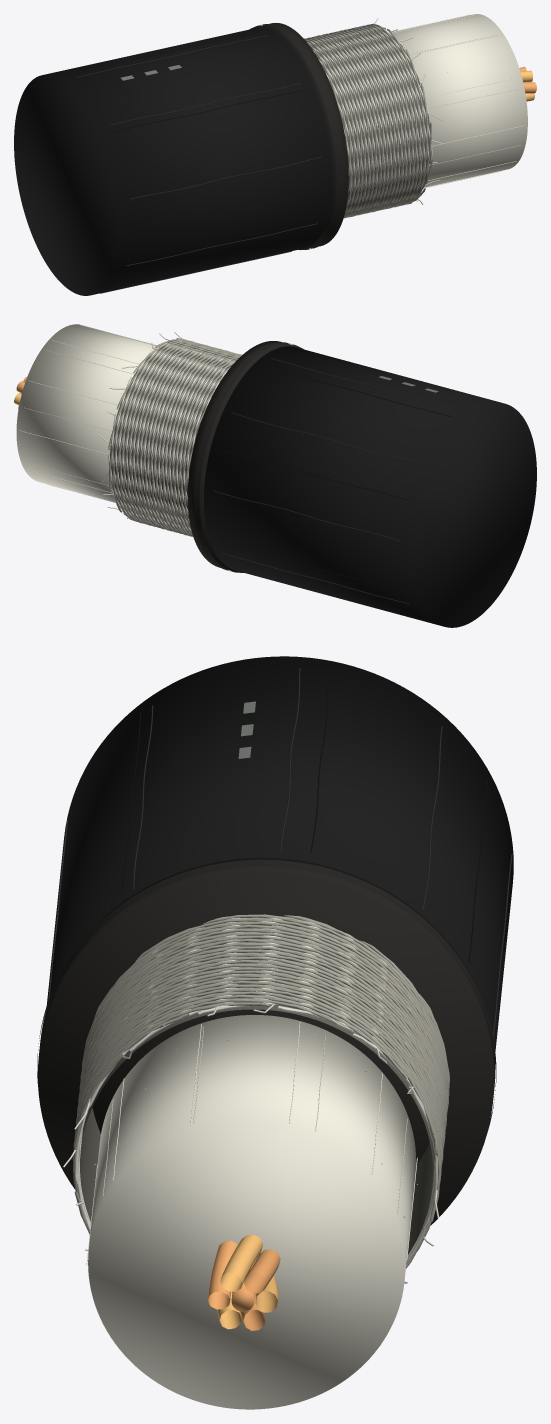
Rendered from rf-rg8-macro.glb.
The picture shows the model from 3 angles, top to bottom: view 1: azimuth 30°, elevation 25°; view 2: azimuth 150°, elevation 25°; view 3: azimuth 270°, elevation 25°; orthographic projection. The views are drawn at different scales.
Visible parts, largest first — view 1: macro jacket body, macro dielectric exposed core, shadow seen through braid windows, thick jacket cut wall, rounded jacket cut lip, macro braid shadow carrier 05 strand 1, macro braid shadow carrier 06 strand 1, macro braid shadow carrier 04 strand 1, macro braid shadow carrier 03 strand 1, macro braid shadow carrier 02 strand 1, macro braid shadow carrier 07 strand 1, macro braid shadow carrier 01 strand 1 (+12 smaller); view 2: macro jacket body, macro dielectric exposed core, shadow seen through braid windows, thick jacket cut wall, rounded jacket cut lip, macro braid shadow carrier 14 strand 1, macro braid shadow carrier 01 strand 1, macro braid shadow carrier 13 strand 1, macro braid shadow carrier 02 strand 1, macro braid shadow carrier 12 strand 1, macro braid shadow carrier 11 strand 1, macro braid shadow carrier 03 strand 1 (+9 smaller); view 3: macro dielectric exposed core, macro jacket body, thick jacket cut wall, shadow seen through braid windows, rounded jacket cut lip, macro braid shadow carrier 02 strand 3, macro braid shadow carrier 01 strand 3, macro braid shadow carrier 03 strand 3, macro braid shadow carrier 13 strand 3, macro braid shadow carrier 12 strand 3, macro braid shadow carrier 14 strand 3, macro braid shadow carrier 10 strand 3 (+10 smaller).
Boxes of the visible parts, bbox=[...] form: macro jacket body: bbox=[14, 27, 332, 295]; macro dielectric exposed core: bbox=[390, 14, 527, 187]; shadow seen through braid windows: bbox=[311, 30, 430, 209]; thick jacket cut wall: bbox=[249, 23, 348, 250]; rounded jacket cut lip: bbox=[255, 24, 341, 249]; macro braid shadow carrier 05 strand 1: bbox=[317, 23, 416, 213]; macro braid shadow carrier 06 strand 1: bbox=[322, 28, 419, 216]; macro braid shadow carrier 04 strand 1: bbox=[315, 25, 413, 209]; macro braid shadow carrier 03 strand 1: bbox=[311, 25, 408, 211]; macro braid shadow carrier 02 strand 1: bbox=[306, 26, 405, 210]; macro braid shadow carrier 07 strand 1: bbox=[326, 33, 424, 217]; macro braid shadow carrier 01 strand 1: bbox=[305, 27, 402, 212]; macro jacket body: bbox=[204, 346, 536, 627]; macro dielectric exposed core: bbox=[16, 324, 159, 502]; shadow seen through braid windows: bbox=[110, 346, 232, 527]; thick jacket cut wall: bbox=[187, 341, 303, 572]; rounded jacket cut lip: bbox=[194, 342, 298, 572]; macro braid shadow carrier 14 strand 1: bbox=[116, 344, 234, 535]; macro braid shadow carrier 01 strand 1: bbox=[113, 343, 237, 533]; macro braid shadow carrier 13 strand 1: bbox=[120, 346, 230, 534]; macro braid shadow carrier 02 strand 1: bbox=[109, 343, 239, 531]; macro braid shadow carrier 12 strand 1: bbox=[124, 347, 225, 536]; macro braid shadow carrier 11 strand 1: bbox=[127, 347, 216, 535]; macro braid shadow carrier 03 strand 1: bbox=[108, 342, 241, 530]; macro dielectric exposed core: bbox=[88, 1015, 416, 1409]; macro jacket body: bbox=[46, 656, 513, 1051]; thick jacket cut wall: bbox=[37, 858, 495, 1225]; shadow seen through braid windows: bbox=[80, 925, 434, 1254]; rounded jacket cut lip: bbox=[37, 859, 496, 1131]; macro braid shadow carrier 02 strand 3: bbox=[79, 939, 443, 1215]; macro braid shadow carrier 01 strand 3: bbox=[77, 935, 445, 1268]; macro braid shadow carrier 03 strand 3: bbox=[76, 944, 445, 1141]; macro braid shadow carrier 13 strand 3: bbox=[78, 929, 446, 1157]; macro braid shadow carrier 12 strand 3: bbox=[82, 924, 445, 1168]; macro braid shadow carrier 14 strand 3: bbox=[76, 932, 446, 1142]; macro braid shadow carrier 10 strand 3: bbox=[77, 919, 448, 1234].
Bounding box in the file's own units: 6.5 × 2.83 × 2.94.
